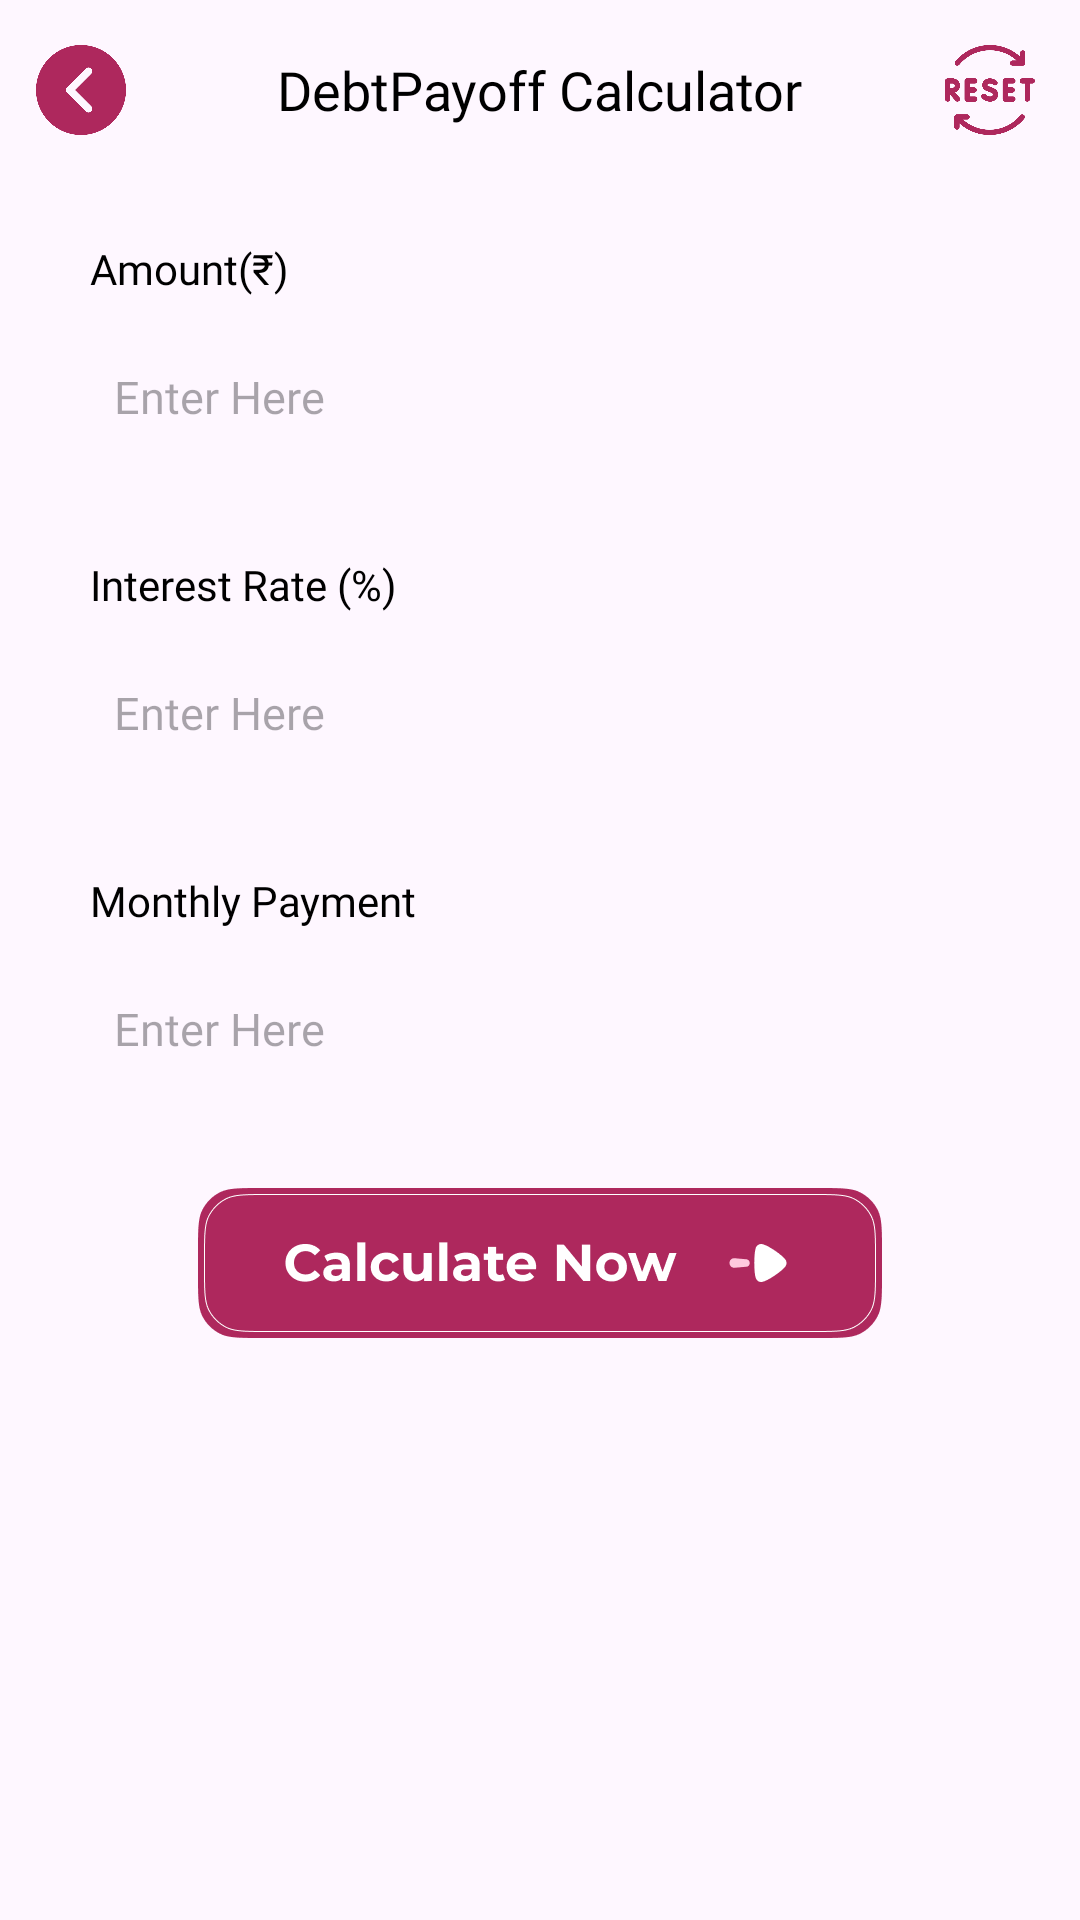

Point at icon controls on the screen. Image size 1080 x 1920, points as (x=x, y=y).
back: (x=81, y=90)
